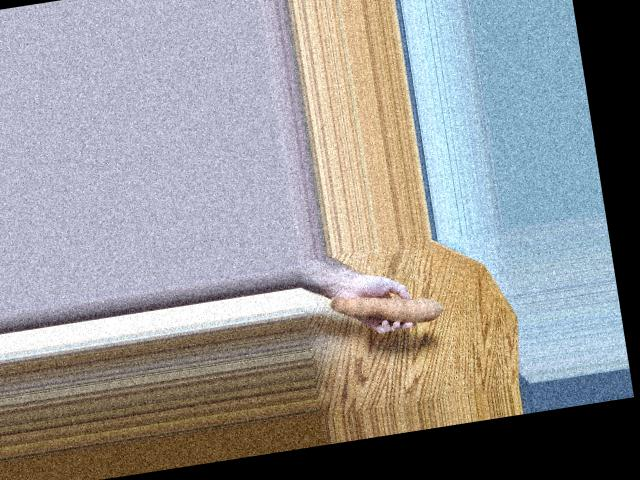sweet_potato: (335, 276, 450, 340)
